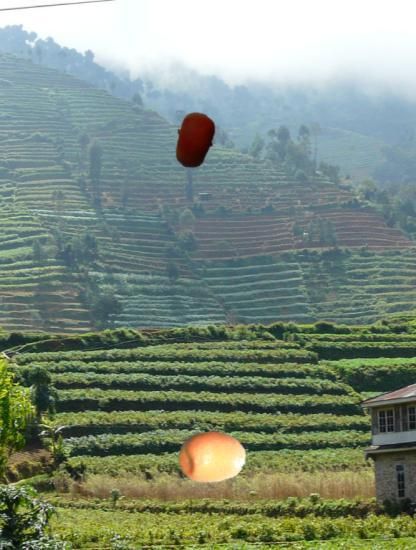Kumquats: (178, 423, 247, 492)
Nectarine: (166, 112, 223, 169)
